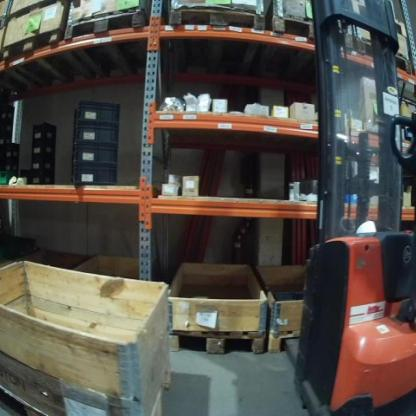pallet: (170, 7, 264, 77), (64, 8, 149, 79), (266, 17, 313, 85), (167, 330, 267, 354), (351, 0, 407, 38)
pallet_truck: (291, 2, 415, 416)
small_load_carrier: (68, 164, 120, 191), (69, 101, 122, 123), (71, 143, 121, 164), (71, 123, 122, 143), (29, 154, 55, 172), (30, 124, 57, 141), (29, 172, 55, 188), (32, 141, 56, 157), (2, 144, 19, 161), (3, 163, 22, 178)
